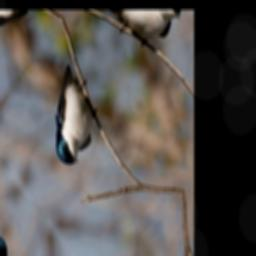Swallow: (28, 58, 112, 173)
